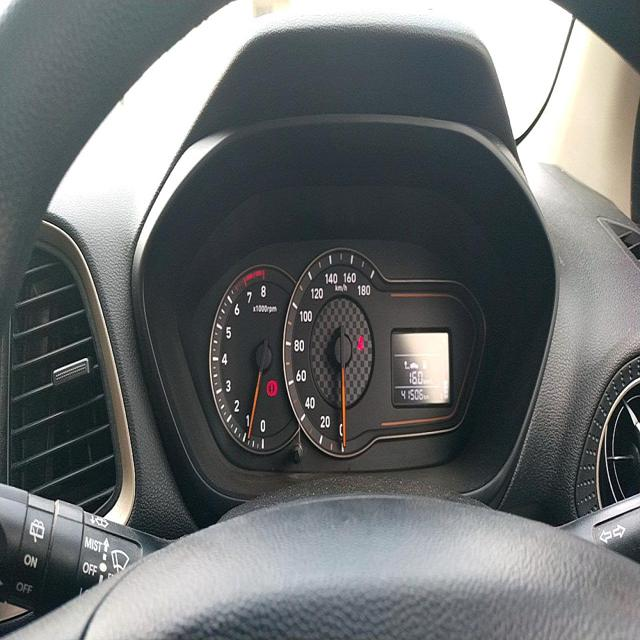odometer: (397, 384, 425, 406)
